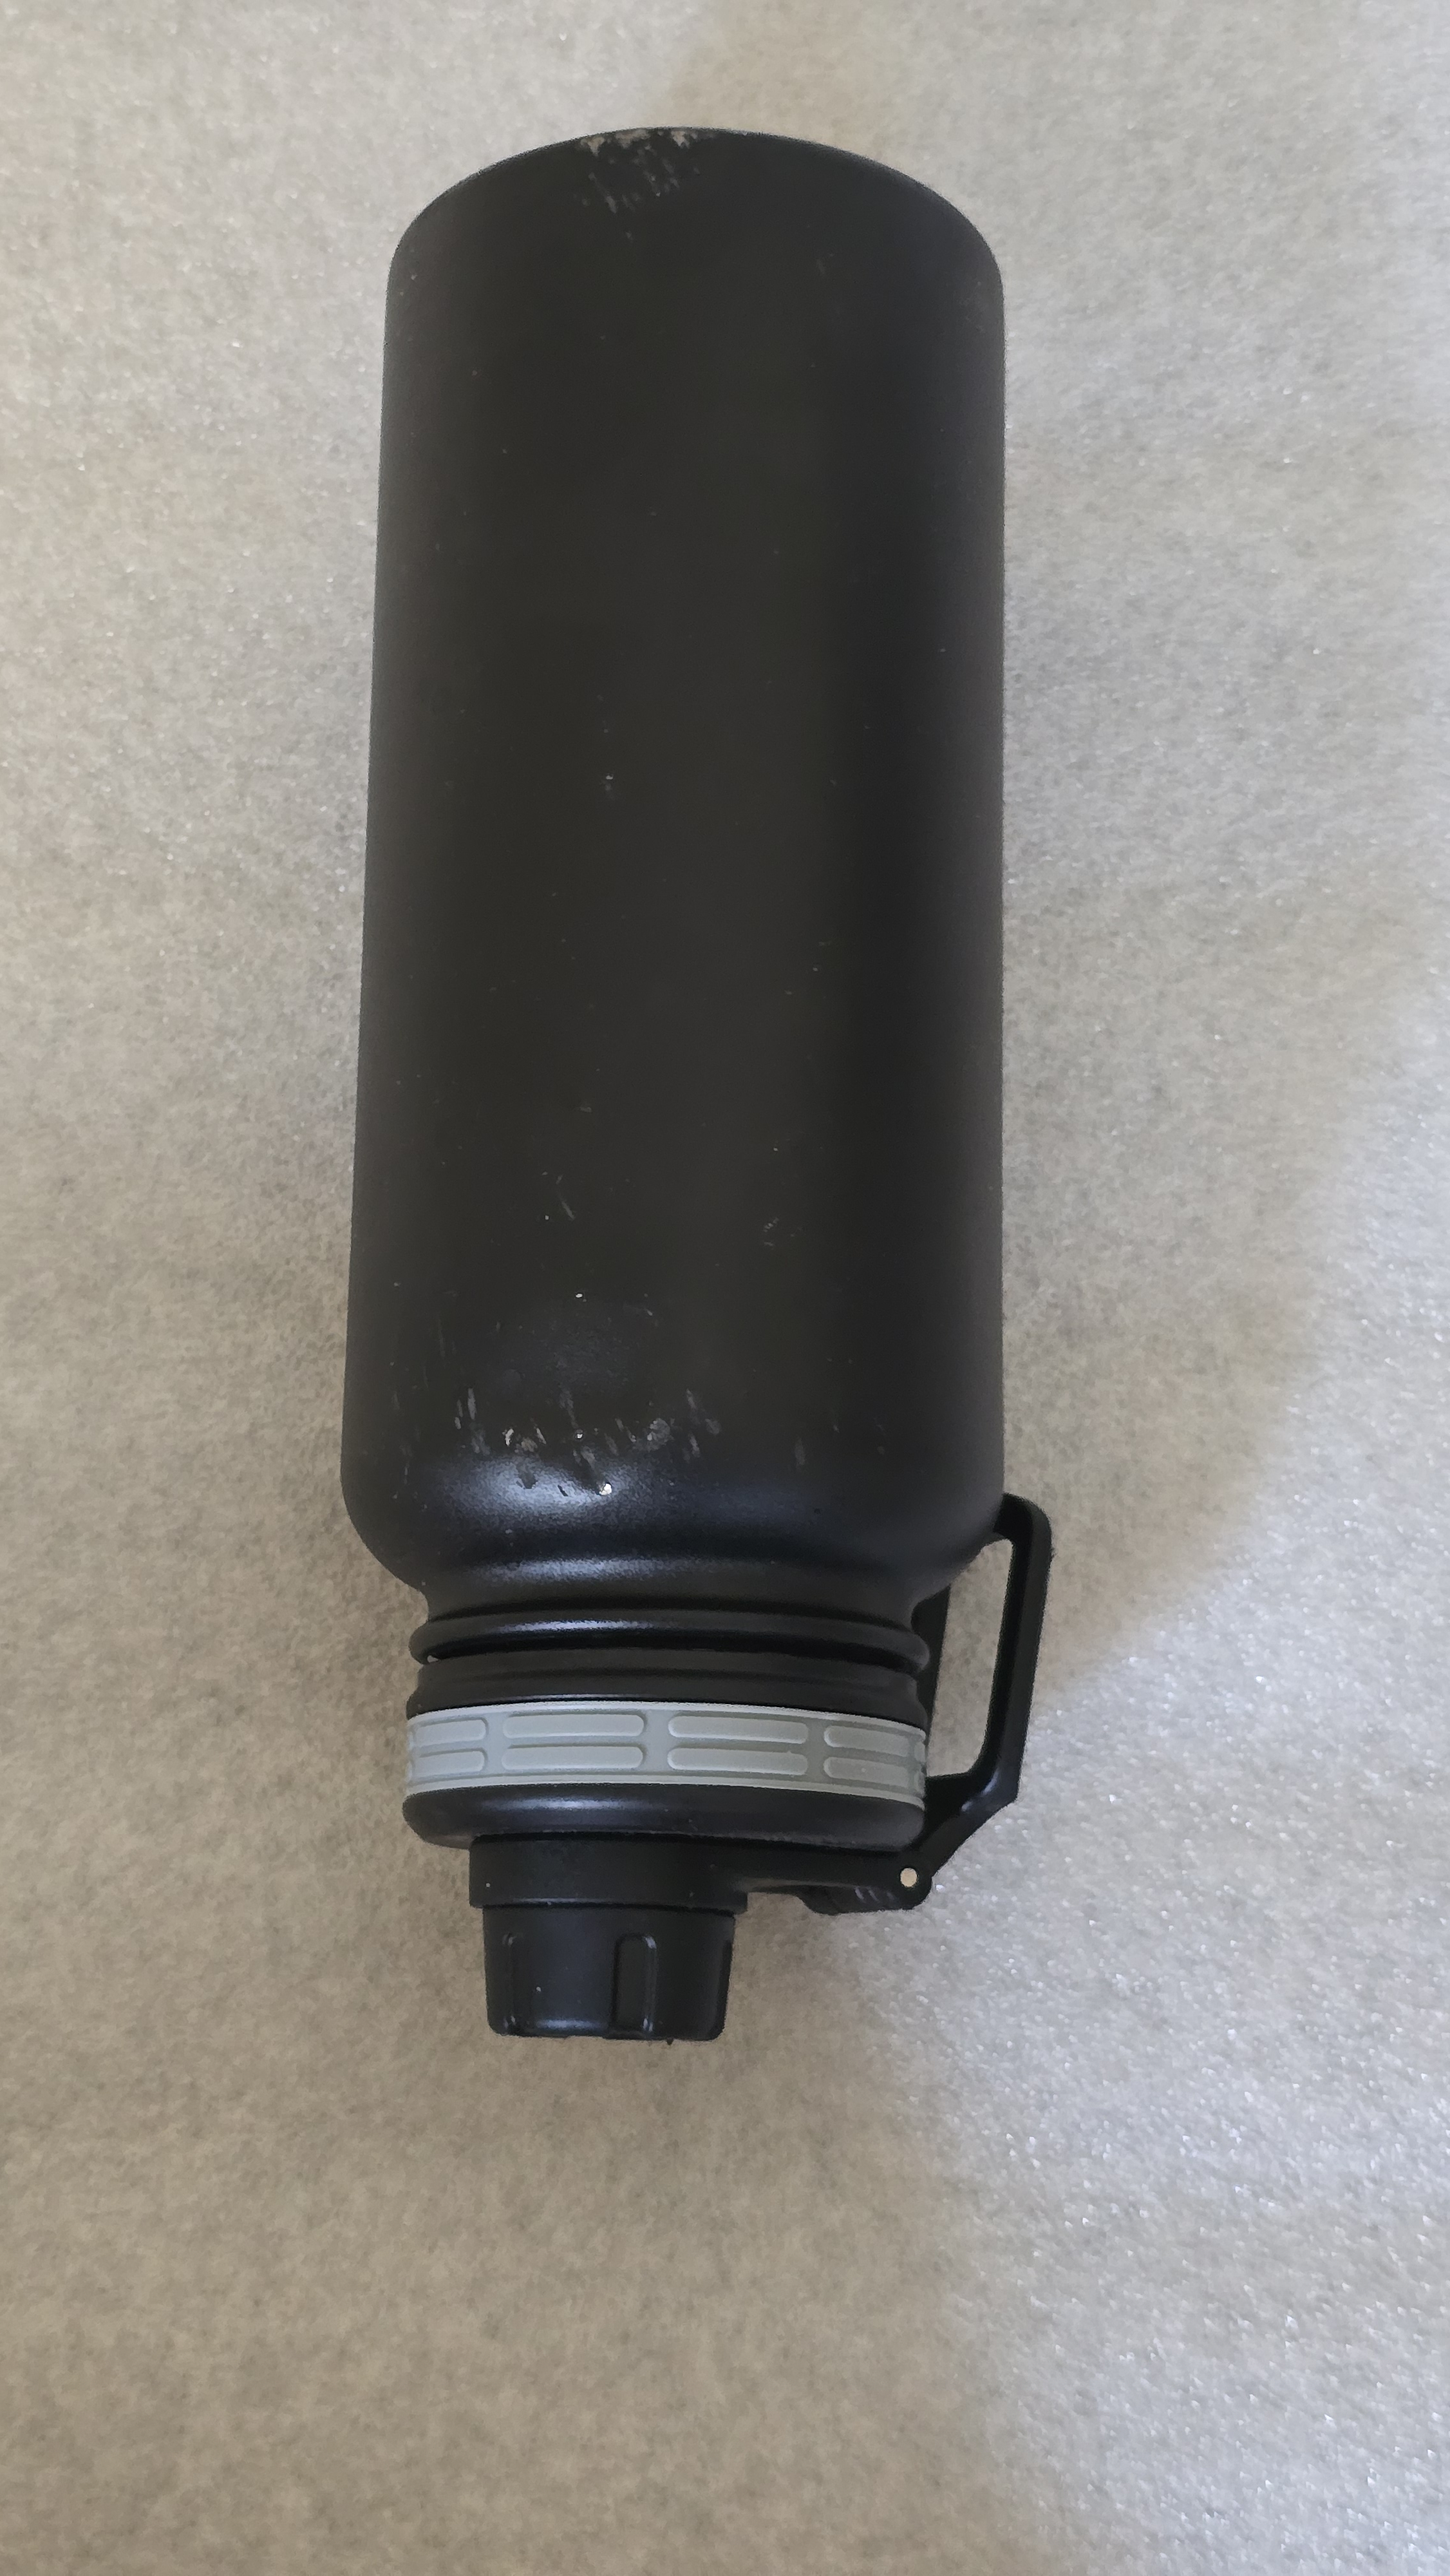bottle: (278, 81, 1158, 2089)
